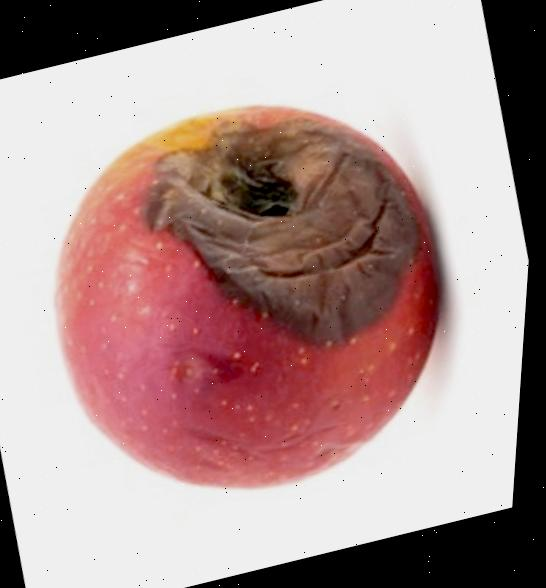ROT: (0, 44, 527, 551)
